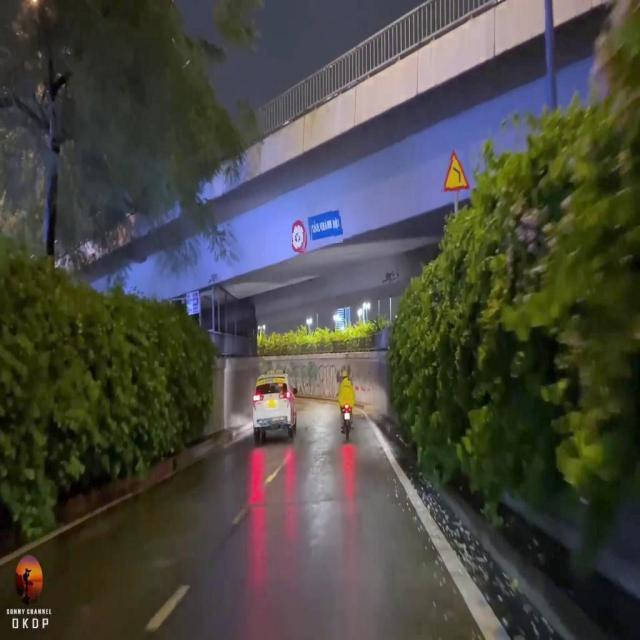201-cho-ngoat-nguy-hiem: (442, 150, 470, 192)
